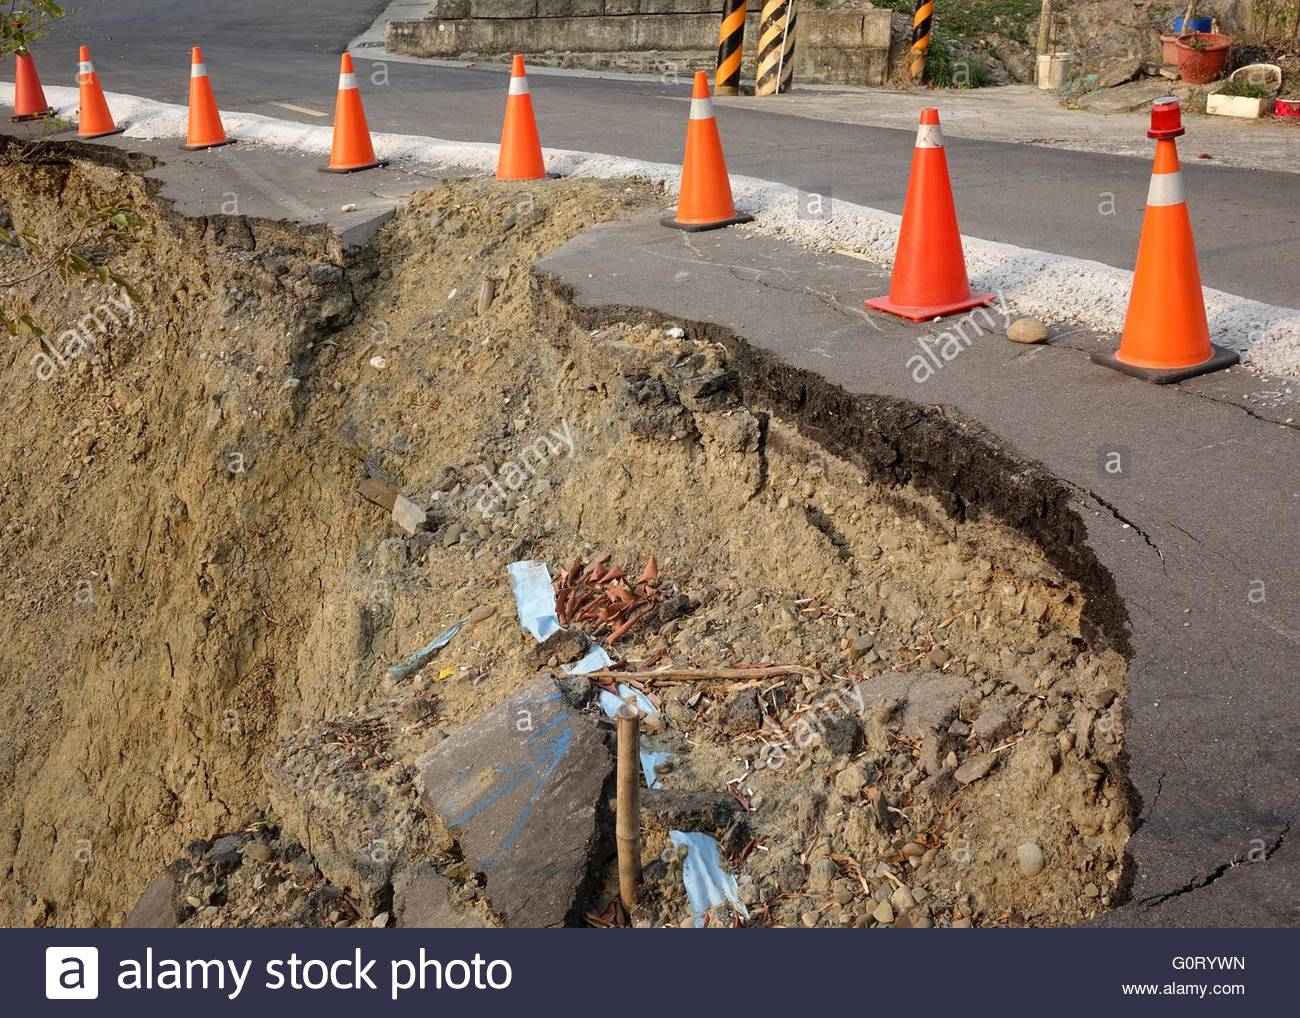cone: (1086, 102, 1245, 392), (856, 110, 1001, 323), (661, 72, 754, 238), (470, 56, 567, 194), (307, 54, 391, 175), (166, 49, 237, 156), (54, 43, 129, 134), (1, 46, 61, 126)
